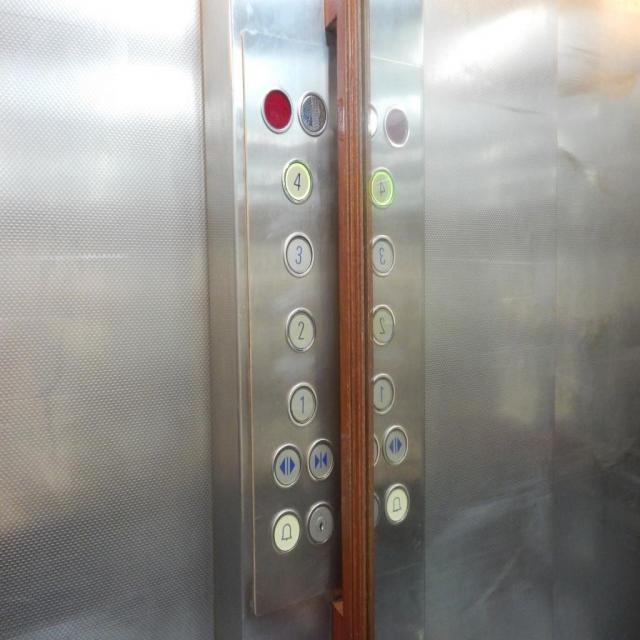1: (283, 378, 319, 426)
2: (282, 304, 318, 352)
3: (280, 229, 316, 277)
4: (279, 155, 315, 203)
alarm: (269, 506, 301, 552), (381, 478, 411, 522)
close: (304, 436, 337, 482)
empty: (259, 85, 295, 133), (379, 100, 415, 148)
keyhole: (303, 498, 336, 544)
open: (268, 439, 304, 487), (378, 421, 412, 467)
speaker: (294, 88, 330, 136)
unknown: (363, 301, 398, 347), (364, 228, 398, 274), (364, 164, 398, 210), (364, 368, 398, 413)
